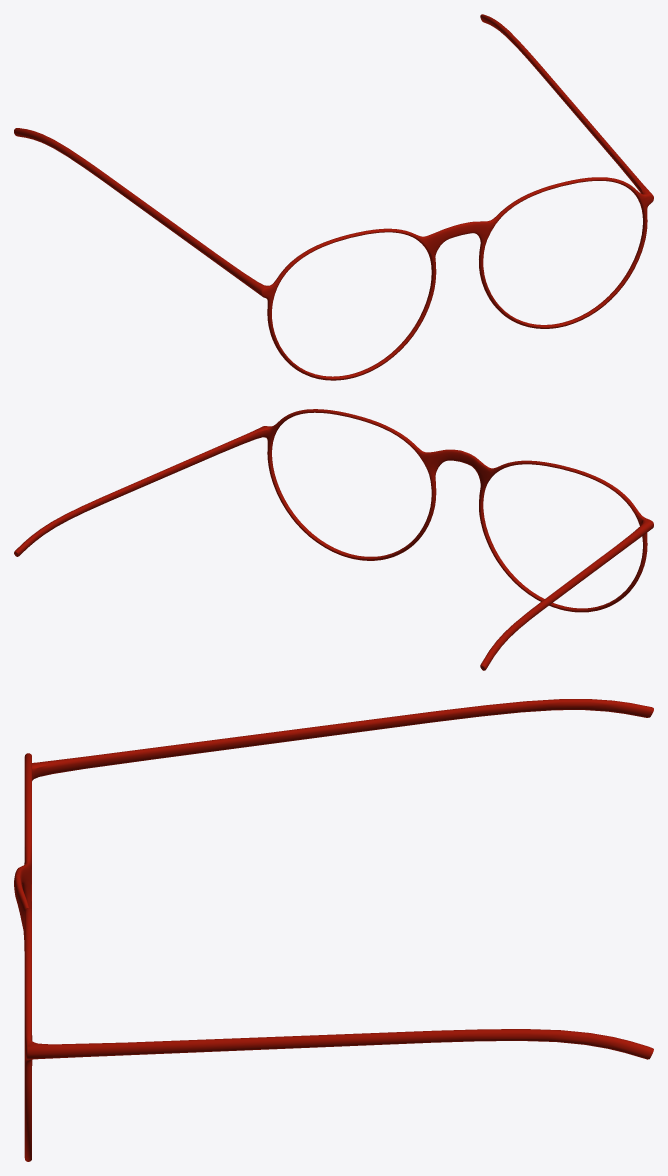
File: eyewear-glasses-red-4f0f8ed0.glb
3 renders of one model, top to bottom at view 1: azimuth 30°, elevation 25°; view 2: azimuth 150°, elevation 25°; view 3: azimuth 270°, elevation 25°, orthographic. The views are drawn at different scales.
Parts seen in each view (by area): view 1: glasses_red.001; view 2: glasses_red.001; view 3: glasses_red.001.
Part boxes in pixels (x1,y1,x2,y2): glasses_red.001: (14,14,653,380); glasses_red.001: (14,409,653,670); glasses_red.001: (14,699,653,1161).
Size of the model in its own units: 1.79 by 0.5205 by 1.4.
